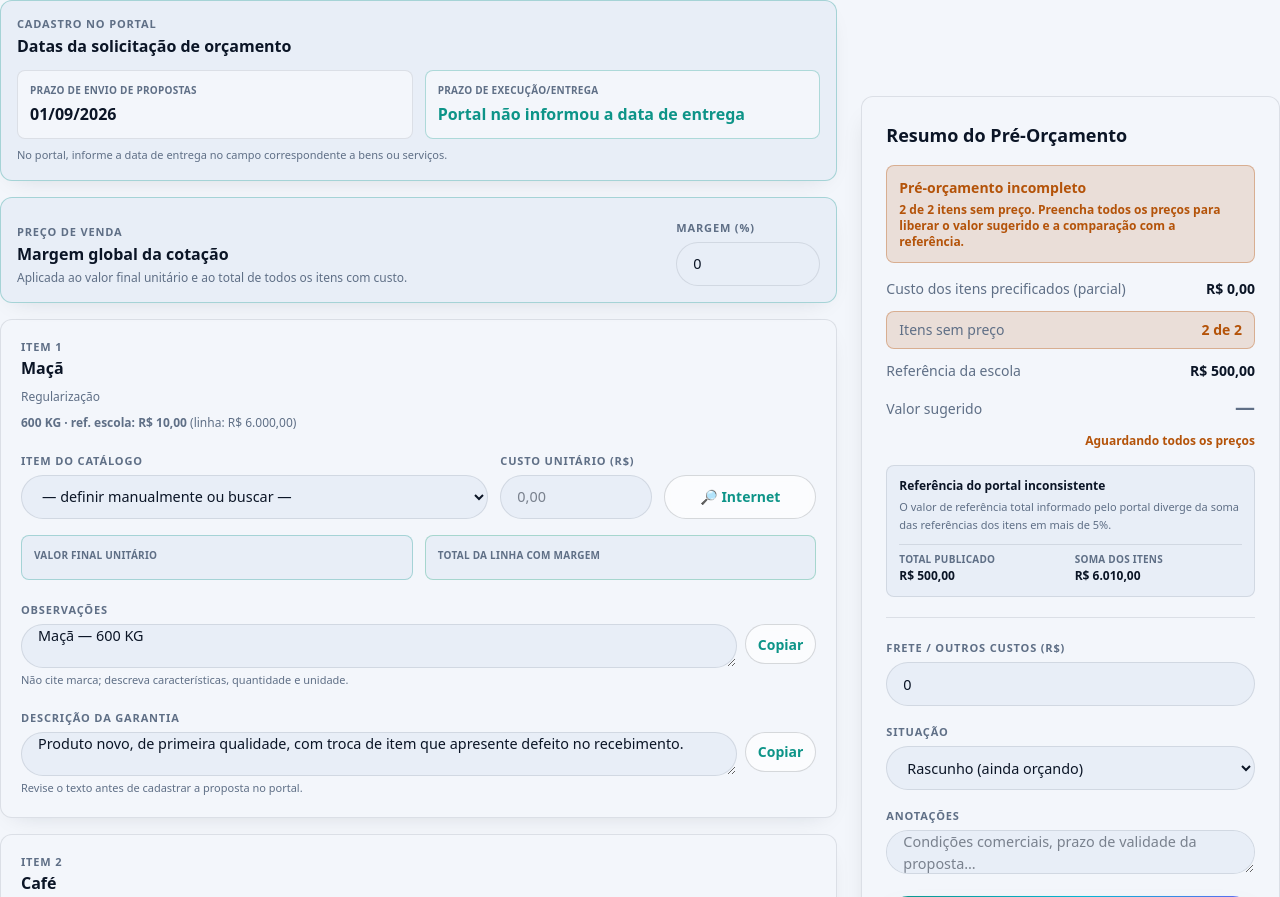
Test: PrequoteWorksheet - Sugestões Automáticas › preenche observações com descrição útil, preserva texto salvo e copia o conteúdo
Expected: the 1st text box holds "Maçã — 600 KG", [21,624,737,668]
Click the 1st button "Copiar": (781, 644) [745,624,816,664]
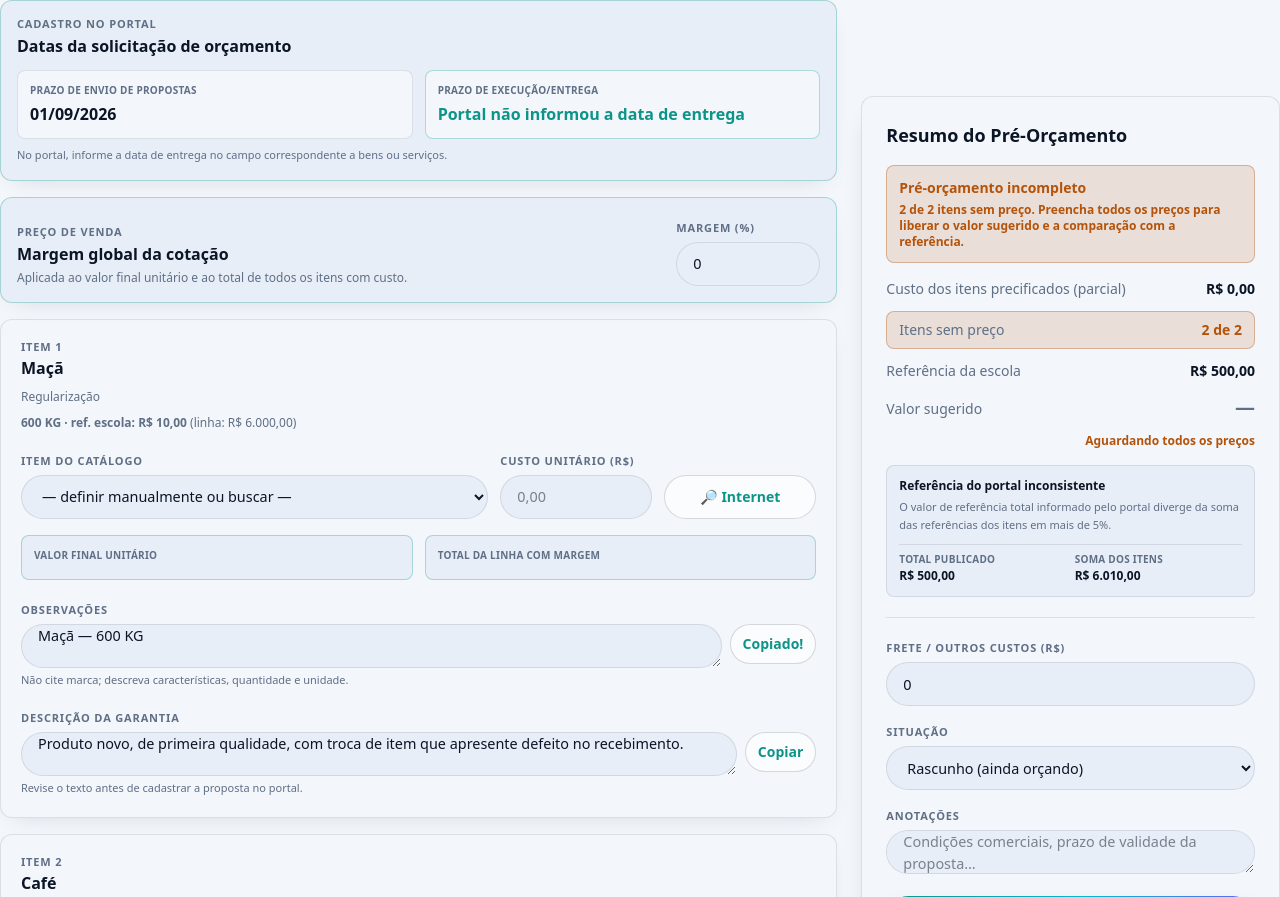
Expected: the button "Copiado!" is shown, [730,624,816,664]
